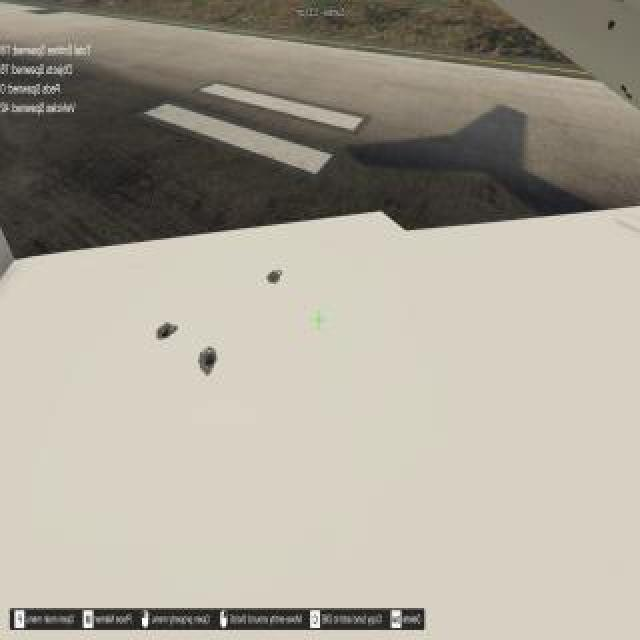crack: (198, 344, 218, 378), (157, 321, 177, 345), (265, 269, 285, 285)
